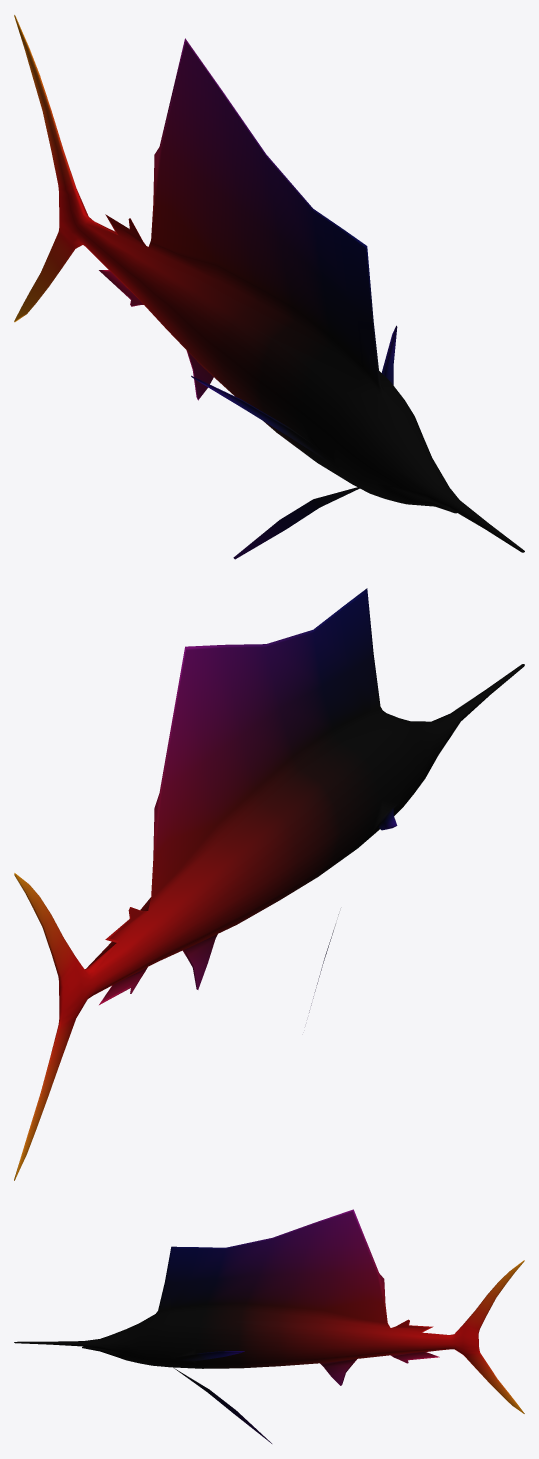
3 views of the same model, one above another, from view 1: azimuth 30°, elevation 25°; view 2: azimuth 150°, elevation 25°; view 3: azimuth 270°, elevation 25° (orthographic). The views are drawn at different scales.
Parts seen in each view (by area): view 1: atlantic sailfish final; view 2: atlantic sailfish final; view 3: atlantic sailfish final.
Part boxes in pixels (x1,y1,x2,y2): atlantic sailfish final: [14, 15, 524, 559]; atlantic sailfish final: [14, 588, 524, 1180]; atlantic sailfish final: [14, 1209, 524, 1443].
Bounding box in the file's own units: 0.6211 × 1.31 × 2.67.
